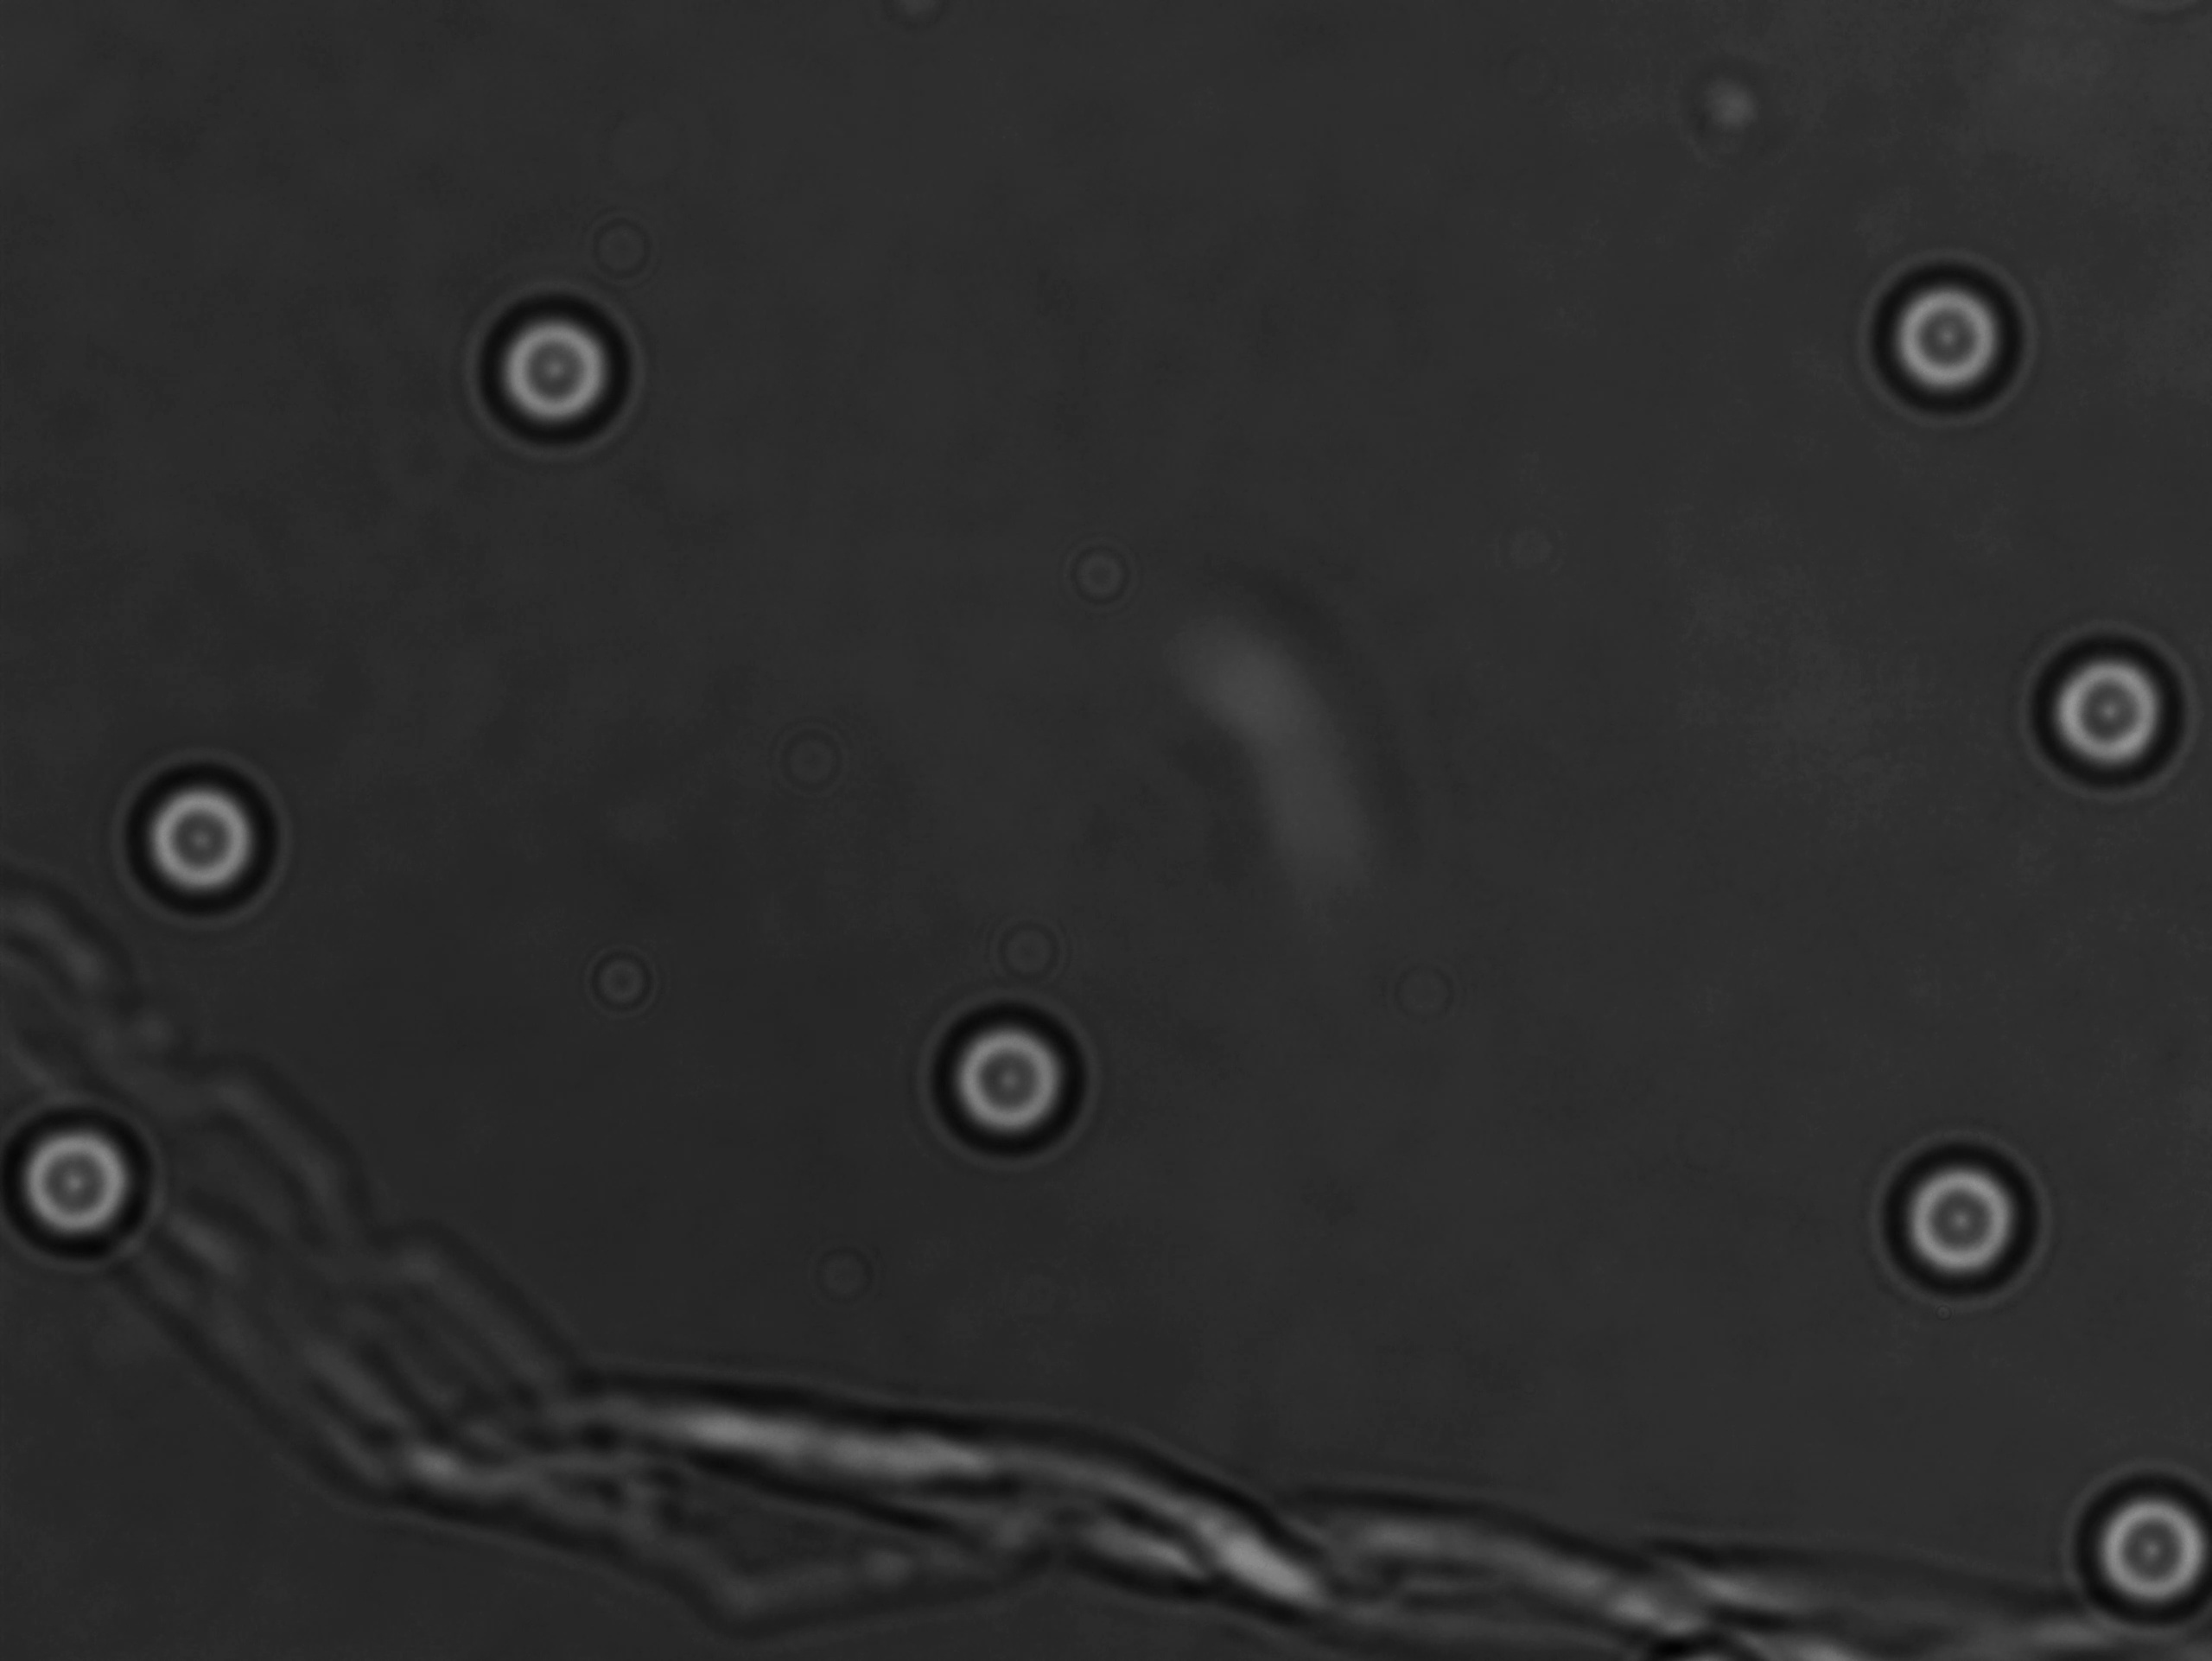depth:40: (2022, 619, 2207, 817), (468, 283, 663, 459), (1861, 1134, 2043, 1323), (1856, 253, 2038, 434), (918, 995, 1085, 1164), (115, 743, 277, 918), (16, 1110, 162, 1277), (2069, 1466, 2212, 1628)
